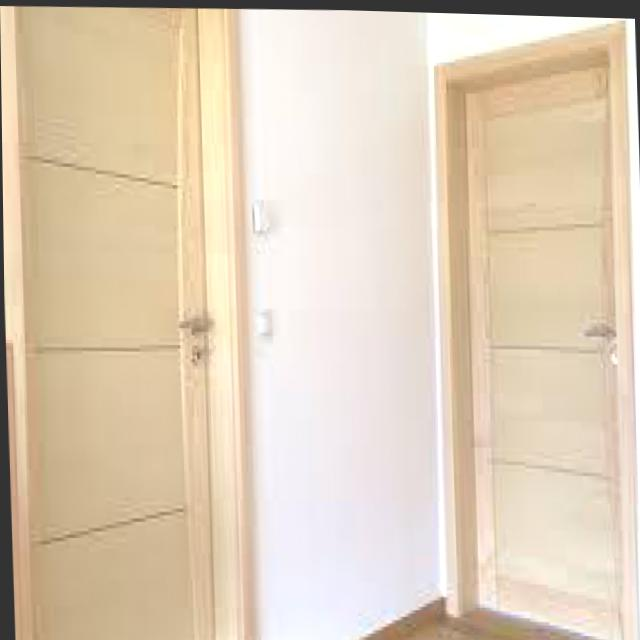close: (432, 11, 639, 639)
